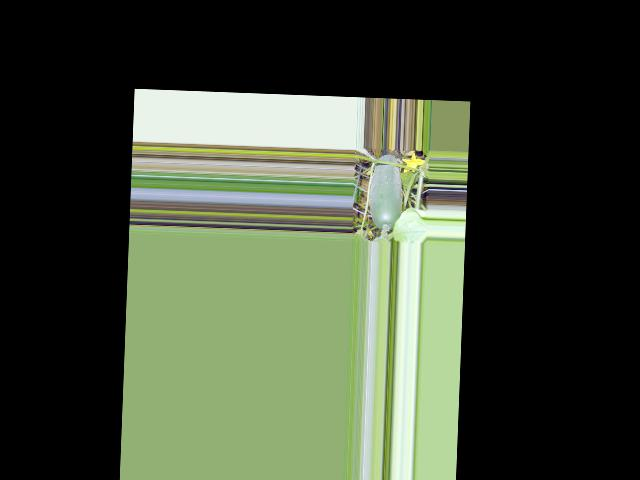cucumber: (368, 154, 403, 232)
